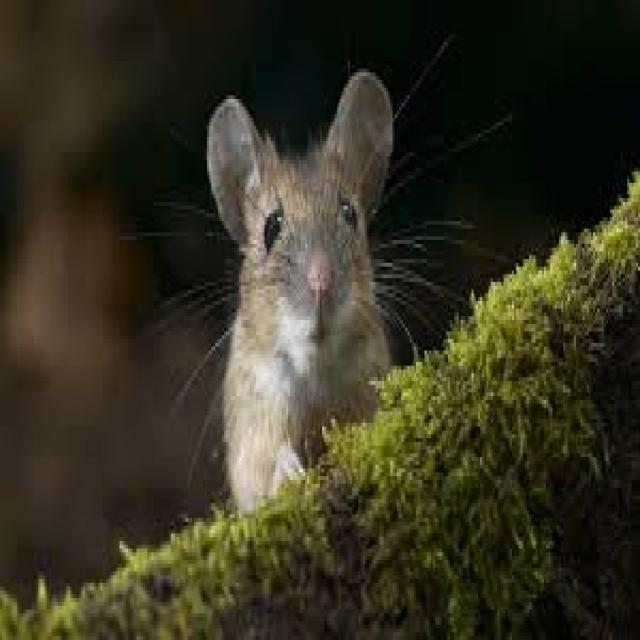Rat: (168, 46, 434, 531)
